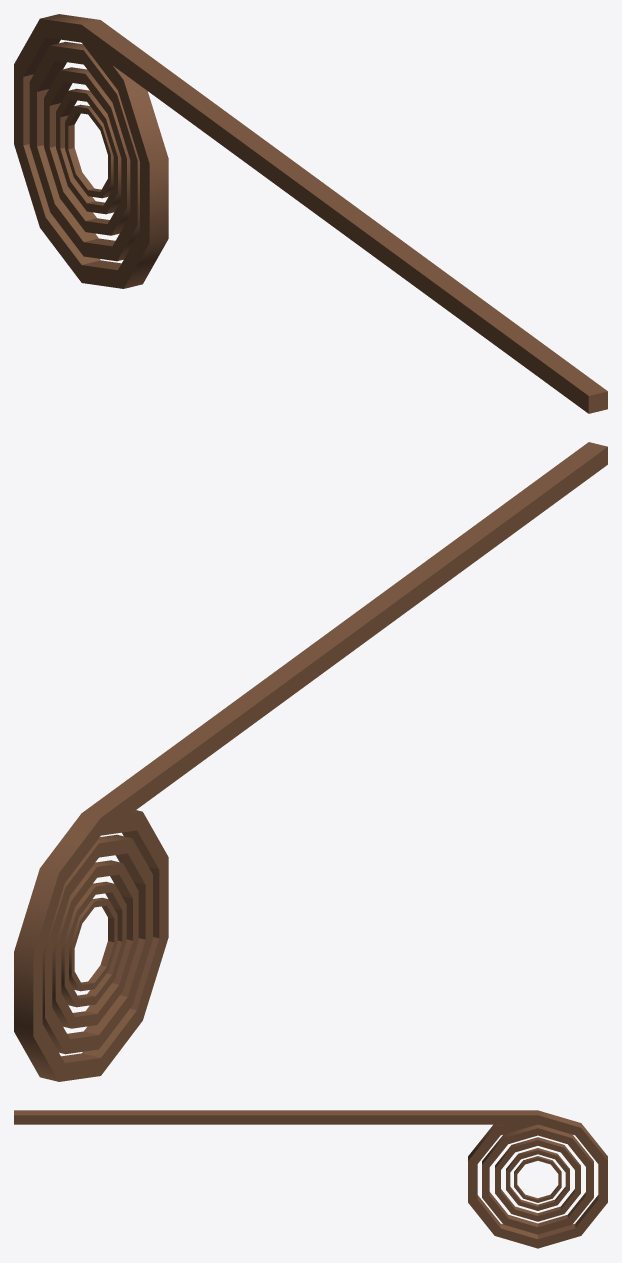
The model's file is whip_whipped.fbx.
3 views of the same model, one above another, from view 1: azimuth 30°, elevation 25°; view 2: azimuth 150°, elevation 25°; view 3: azimuth 270°, elevation 25° (orthographic). The views are drawn at different scales.
Parts seen in each view (by area): view 1: whip_whipped; view 2: whip_whipped; view 3: whip_whipped.
Part boxes in pixels (x1=…): whip_whipped: x1=14, y1=14, x2=607, y2=413; whip_whipped: x1=14, y1=442, x2=607, y2=1081; whip_whipped: x1=14, y1=1110, x2=607, y2=1248.
Bounding box in the file's own units: 3.31 × 42.58 × 172.
